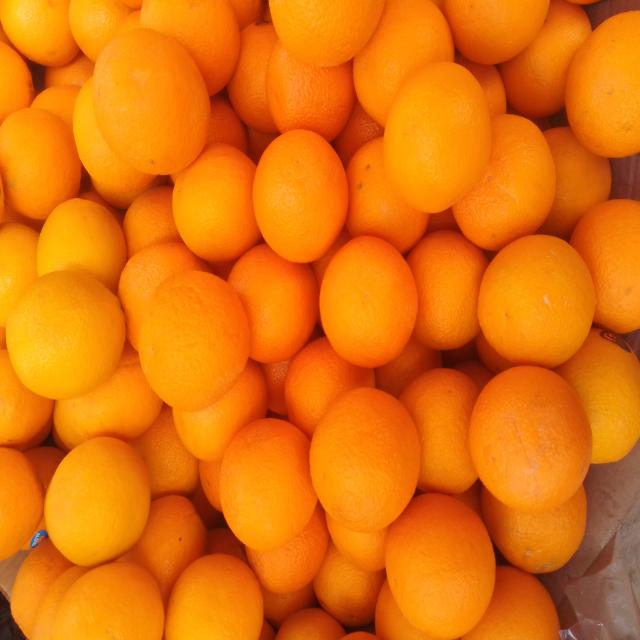orange: (469, 367, 592, 513), (93, 29, 209, 174), (384, 62, 491, 212), (310, 388, 420, 532), (386, 494, 495, 638), (139, 271, 250, 411), (478, 236, 596, 367), (7, 271, 125, 399), (453, 115, 555, 250), (45, 437, 149, 566), (320, 236, 418, 367), (220, 419, 317, 551), (354, 0, 453, 126), (254, 130, 348, 262), (54, 343, 162, 448), (555, 329, 639, 463), (228, 244, 318, 363), (566, 11, 639, 157), (500, 0, 591, 117), (73, 77, 153, 207), (173, 144, 260, 262), (400, 368, 479, 495), (118, 242, 209, 349), (346, 137, 429, 253), (407, 231, 488, 349), (140, 0, 239, 95), (174, 360, 267, 461), (570, 200, 639, 333), (285, 337, 375, 438), (482, 486, 586, 573), (0, 108, 81, 219), (122, 495, 206, 602), (266, 41, 355, 140), (51, 563, 164, 639), (37, 198, 126, 292), (165, 555, 263, 639), (538, 127, 611, 239), (270, 0, 384, 66), (246, 504, 329, 594), (462, 567, 560, 639), (443, 0, 549, 64), (131, 406, 198, 500), (11, 540, 72, 638), (314, 542, 384, 626), (227, 22, 277, 133), (0, 349, 53, 447), (0, 0, 78, 66), (0, 448, 44, 559), (30, 566, 89, 639), (123, 186, 181, 258), (375, 337, 442, 397), (0, 222, 38, 327), (69, 0, 132, 62), (326, 515, 389, 571), (17, 421, 65, 492), (333, 99, 383, 167), (376, 580, 433, 639), (455, 55, 506, 117), (92, 170, 166, 209), (0, 43, 34, 124), (310, 227, 352, 290), (205, 96, 248, 154), (262, 583, 317, 628), (32, 85, 80, 130), (276, 609, 344, 639), (260, 359, 292, 416), (45, 52, 94, 88), (25, 446, 65, 490), (474, 331, 514, 374), (78, 191, 125, 227), (189, 482, 223, 529), (206, 528, 248, 563), (453, 360, 494, 391), (14, 419, 52, 452), (246, 127, 279, 164), (199, 461, 222, 512), (454, 480, 483, 519), (442, 339, 479, 368), (229, 0, 263, 30), (427, 207, 460, 233), (115, 9, 141, 35), (51, 426, 71, 454), (0, 24, 15, 50), (258, 620, 275, 639), (344, 632, 378, 639), (123, 0, 142, 11), (262, 0, 271, 21), (0, 327, 6, 349)
